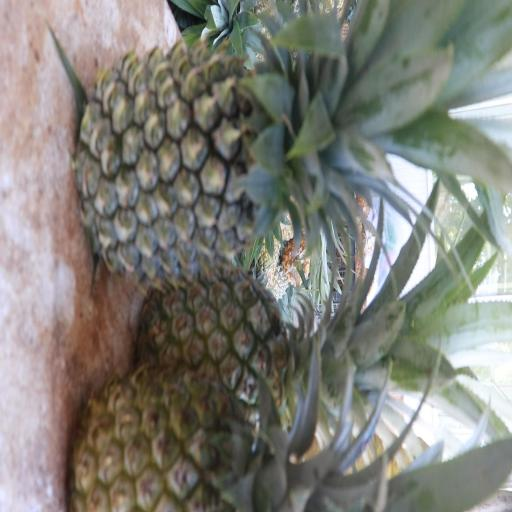------------------------------: (64, 361, 408, 512), (130, 255, 368, 435)
